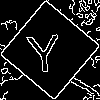Y: (25, 25, 62, 74)
